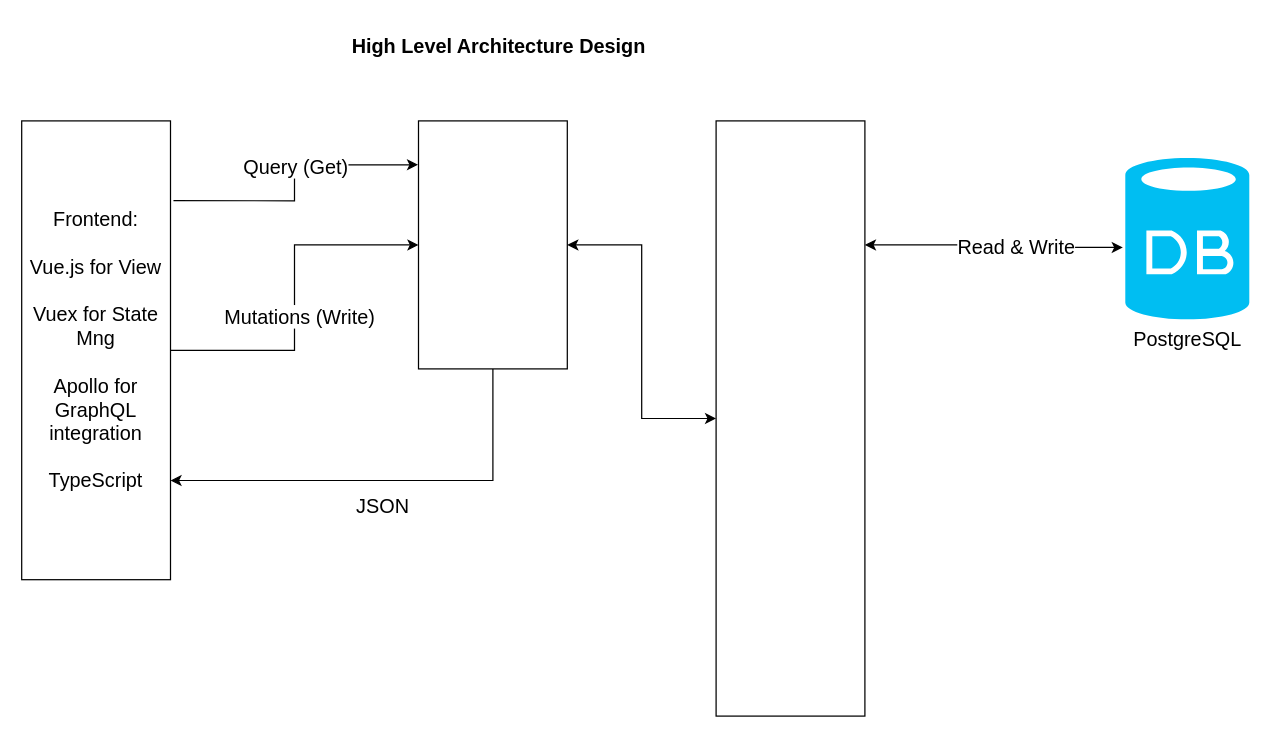
The diagram is 1271 pixels wide and 738 high, and some of its shapes have lost their labels. Here are the shapes that lost their labels. From the top down, the box of each, then its label:
(417, 120, 567, 369): GraphQL API Server Endpoint: /graphql
(715, 120, 865, 716): Backend (DJango Models) Logic AuthN/AuthZ
